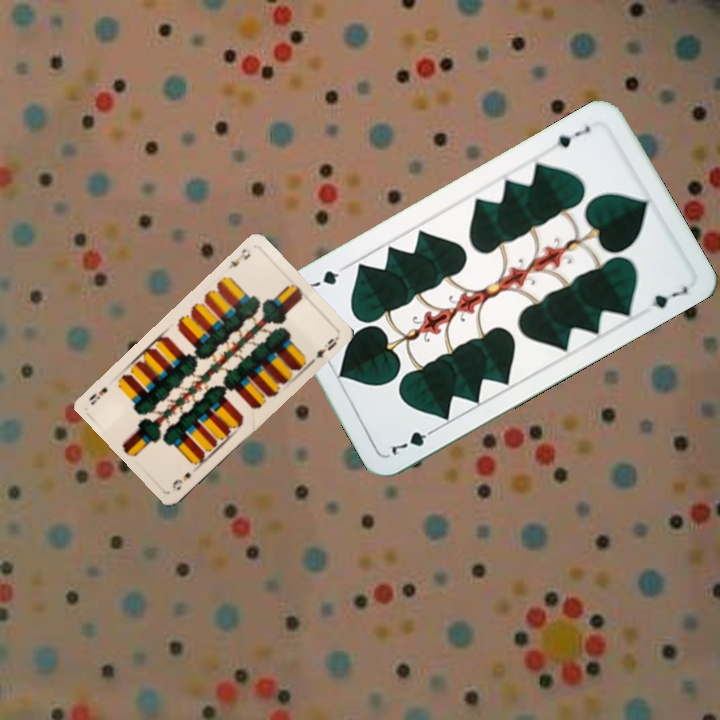E9: (224, 245, 253, 271), (168, 468, 194, 493)
G7: (387, 423, 441, 458), (545, 121, 593, 151)
